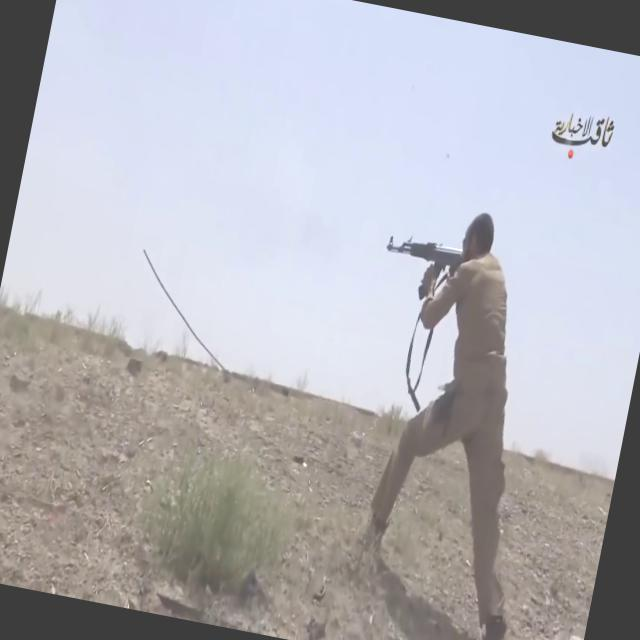long weapon: (373, 220, 466, 312)
